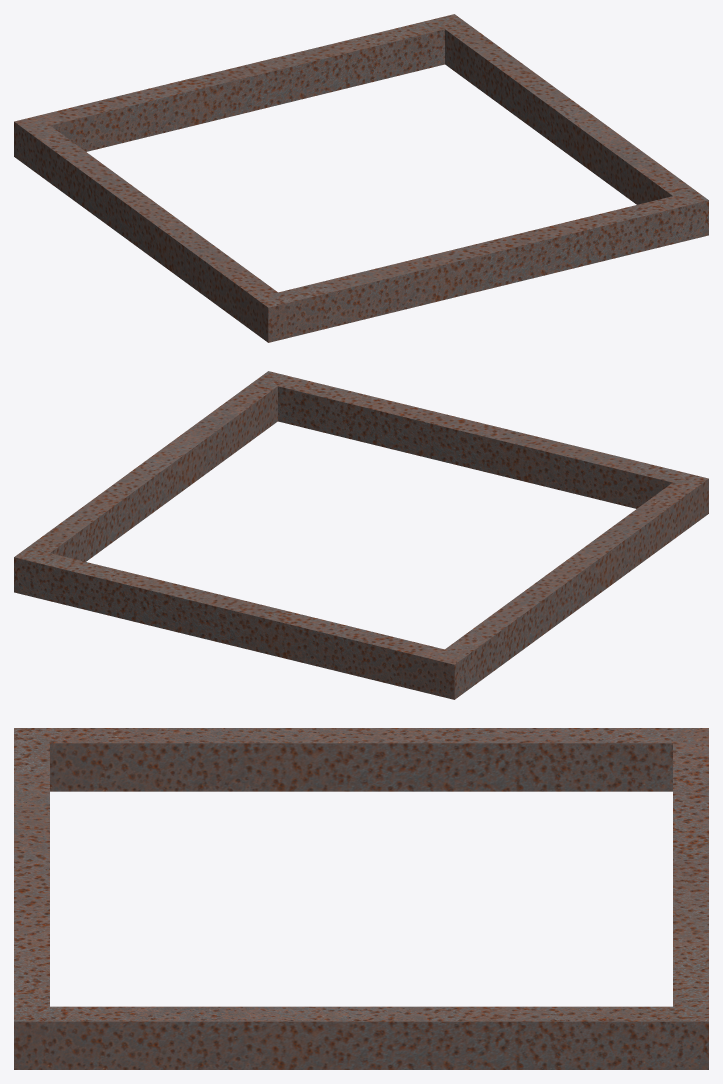
The model's file is SM_LDFest_16_Metal_00.fbx.
3 views of the same model, one above another, from view 1: azimuth 30°, elevation 25°; view 2: azimuth 150°, elevation 25°; view 3: azimuth 270°, elevation 25° (orthographic). The views are drawn at different scales.
Visible parts, largest first — view 1: SM_LDFest_16_Metal_00; view 2: SM_LDFest_16_Metal_00; view 3: SM_LDFest_16_Metal_00.
Boxes of the visible parts, box(x1,y1,x2,y2) form: SM_LDFest_16_Metal_00: box(14, 14, 708, 342); SM_LDFest_16_Metal_00: box(14, 371, 708, 699); SM_LDFest_16_Metal_00: box(14, 728, 708, 1069).
Size of the model in its own units: 229 by 17.45 by 229.
